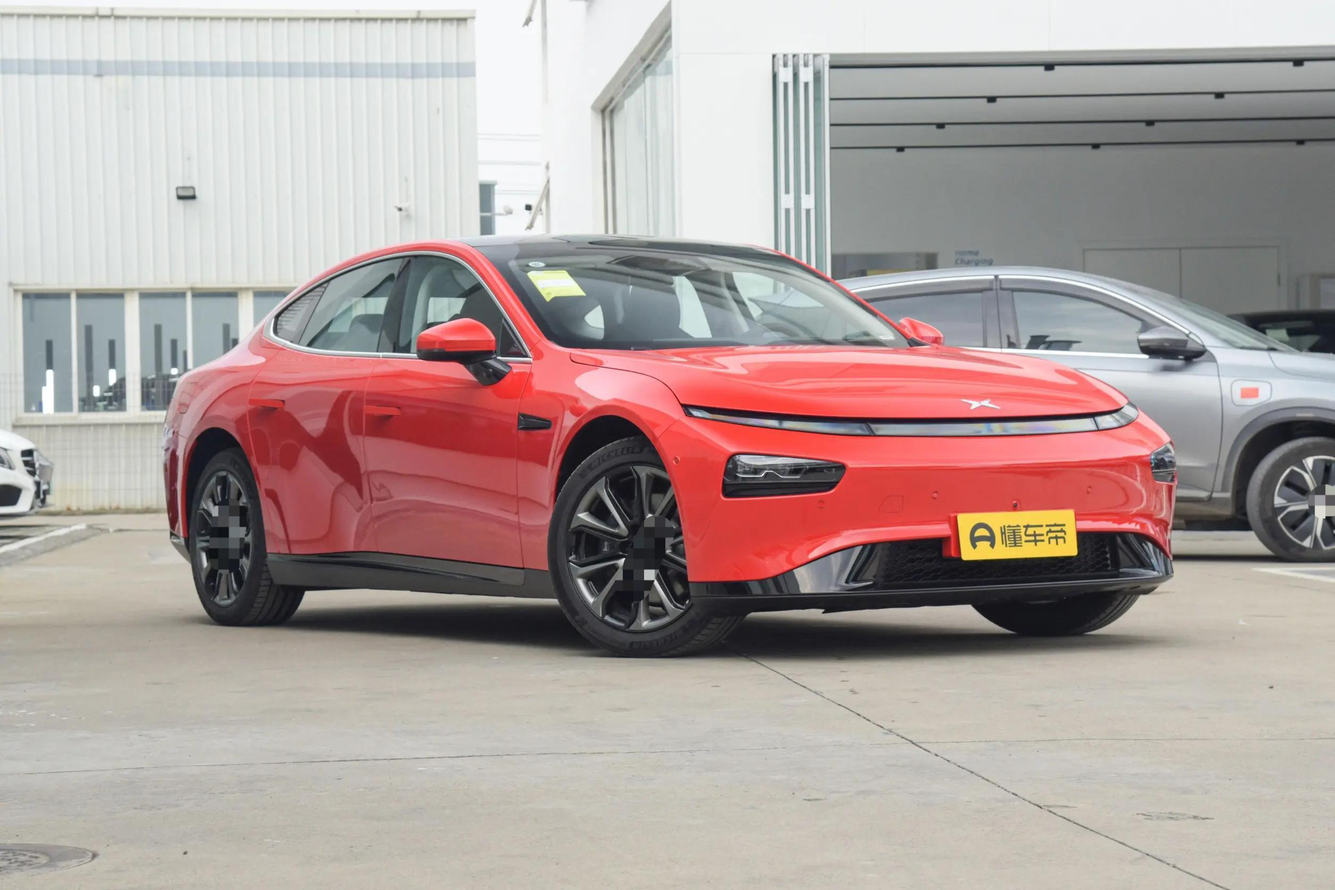XPeng Motors: (961, 398, 1000, 409)
